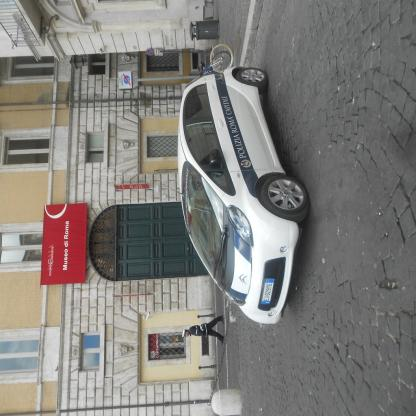Car: (180, 64, 311, 326)
